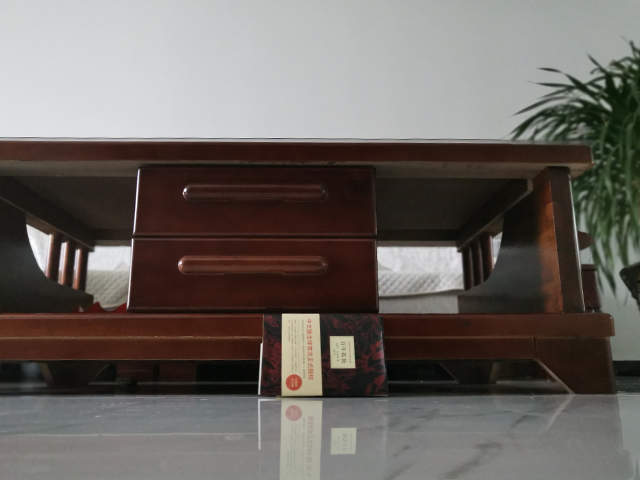book: (257, 311, 390, 399)
table: (1, 135, 620, 396)
